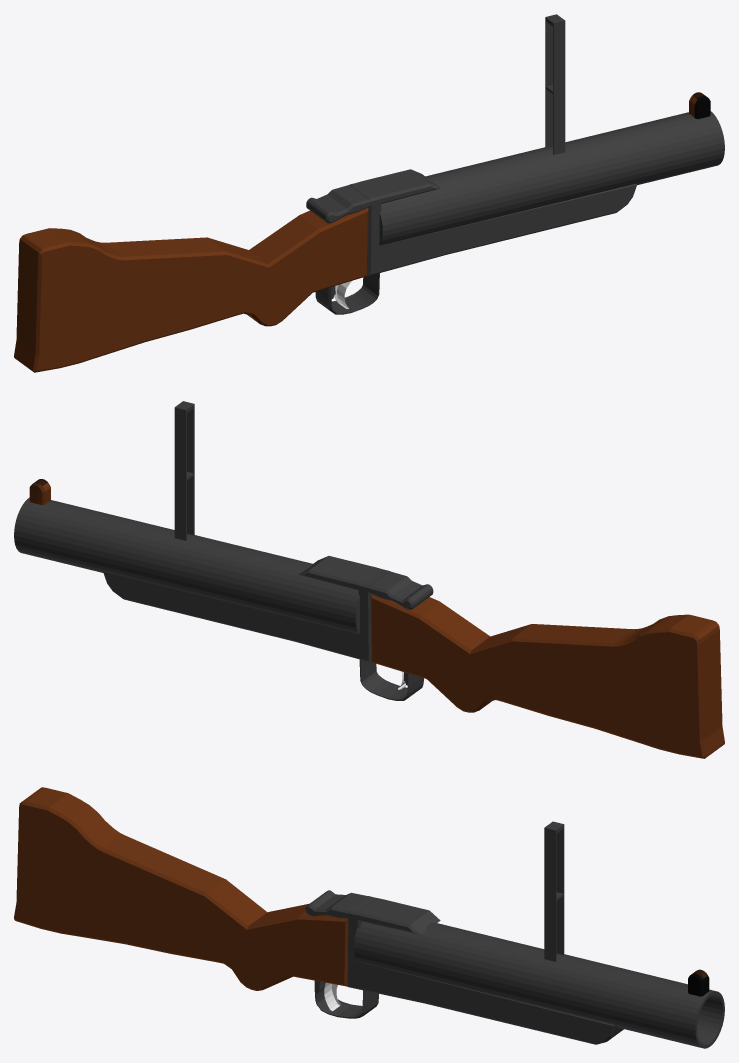
Rendered from grenadelauncher.glb.
The picture shows the model from 3 angles, top to bottom: view 1: azimuth 30°, elevation 25°; view 2: azimuth 150°, elevation 25°; view 3: azimuth 330°, elevation 25°; orthographic projection.
Parts seen in each view (by area): view 1: Plane.002, Plane.005, Plane.001, Plane.003, Plane.007; view 2: Plane.002, Plane.005, Plane.001, Plane.003, Plane.007; view 3: Plane.002, Plane.005, Plane.001, Plane.003, Plane.007, Plane.004.
Part boxes in pixels (bbox=[...]): Plane.002: bbox=[14, 208, 368, 372]; Plane.005: bbox=[379, 111, 724, 245]; Plane.001: bbox=[306, 169, 637, 276]; Plane.003: bbox=[545, 14, 565, 154]; Plane.007: bbox=[315, 273, 379, 314]; Plane.002: bbox=[371, 594, 724, 758]; Plane.005: bbox=[14, 497, 359, 634]; Plane.001: bbox=[103, 556, 433, 662]; Plane.003: bbox=[174, 401, 194, 540]; Plane.007: bbox=[359, 659, 423, 700]; Plane.002: bbox=[14, 787, 348, 990]; Plane.005: bbox=[354, 921, 724, 1048]; Plane.001: bbox=[305, 890, 623, 1044]; Plane.003: bbox=[544, 821, 564, 961]; Plane.007: bbox=[314, 980, 378, 1018]; Plane.004: bbox=[688, 969, 709, 996].
Bounding box in the file's own units: 4.76 × 1.57 × 0.3539.
Materials: 1 (1 with a texture image).
